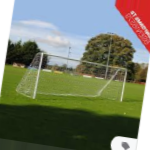goals: (14, 52, 129, 107)
